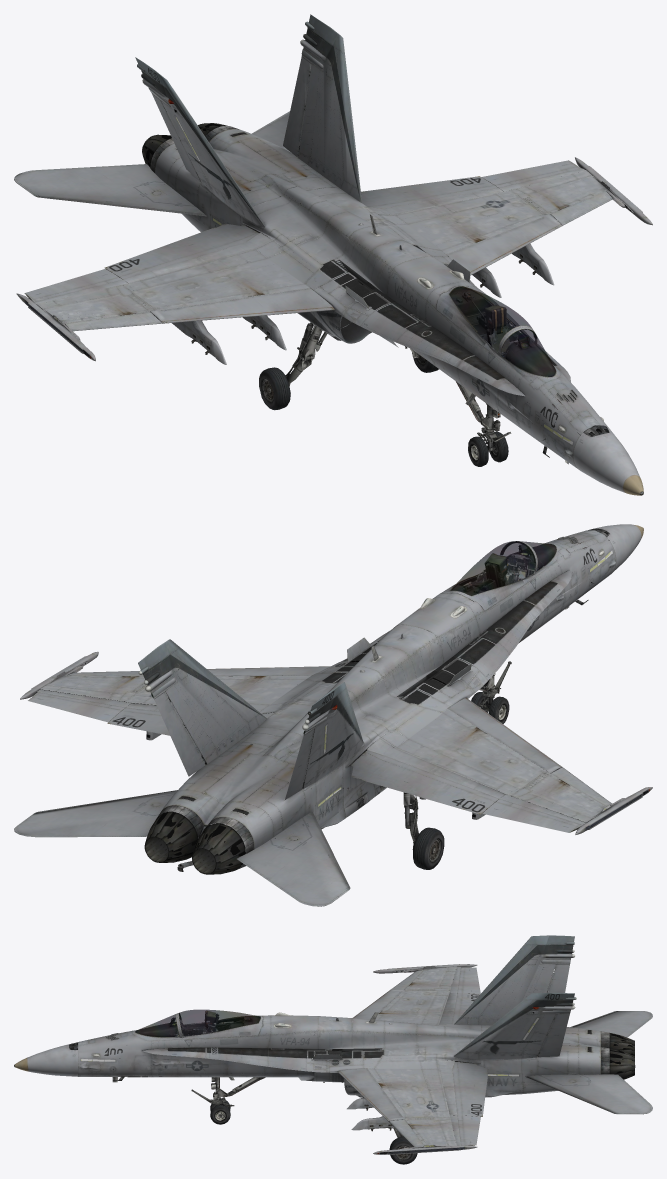
3 views of the same model, one above another, from view 1: azimuth 30°, elevation 25°; view 2: azimuth 150°, elevation 25°; view 3: azimuth 270°, elevation 25° (orthographic). The views are drawn at different scales.
Parts seen in each view (by area): view 1: Object_37, Object_53, Object_25, Object_35, Object_45, Object_29, Object_43, Object_31, Object_33, Object_49, Object_41, Object_39 (+1 smaller); view 2: Object_37, Object_25, Object_53, Object_43, Object_35, Object_33, Object_31, Object_29, Object_45, Object_41, Object_49, Object_17 (+2 smaller); view 3: Object_37, Object_53, Object_25, Object_45, Object_43, Object_35, Object_31, Object_29, Object_33, Object_41, Object_49, Object_17 (+2 smaller).
Part boxes in pixels (box(x1,y1,x2,y2)): Object_37: box(14, 14, 361, 228); Object_53: box(55, 117, 609, 469); Object_25: box(242, 186, 479, 351); Object_35: box(34, 168, 612, 331); Object_45: box(36, 176, 589, 324); Object_29: box(24, 160, 581, 323); Object_43: box(150, 126, 338, 232); Object_31: box(16, 157, 652, 361); Object_33: box(142, 123, 511, 466); Object_49: box(240, 217, 643, 495); Object_41: box(449, 286, 555, 408); Object_39: box(172, 243, 554, 364); Object_37: box(14, 639, 364, 906); Object_25: box(250, 625, 487, 767); Object_53: box(177, 528, 616, 871); Object_43: box(156, 732, 346, 869); Object_35: box(37, 671, 612, 824); Object_33: box(144, 661, 511, 874); Object_31: box(20, 651, 652, 834); Object_29: box(28, 666, 582, 832); Object_45: box(66, 675, 605, 822); Object_41: box(451, 541, 556, 595); Object_49: box(336, 524, 643, 818); Object_17: box(451, 544, 556, 606); Object_37: box(454, 935, 652, 1114); Object_53: box(69, 1012, 635, 1146); Object_25: box(298, 1012, 480, 1081); Object_45: box(368, 966, 456, 1138); Object_43: box(481, 1024, 609, 1097); Object_35: box(375, 967, 460, 1147); Object_31: box(373, 964, 488, 1154); Object_29: box(338, 967, 480, 1145); Object_33: box(159, 1033, 634, 1164); Object_41: box(135, 1009, 260, 1036); Object_49: box(14, 1044, 483, 1097); Object_17: box(135, 1016, 260, 1036).
Size of the model in its own units: 11.6 by 5.16 by 17.1.
20 materials, 19 textured.
